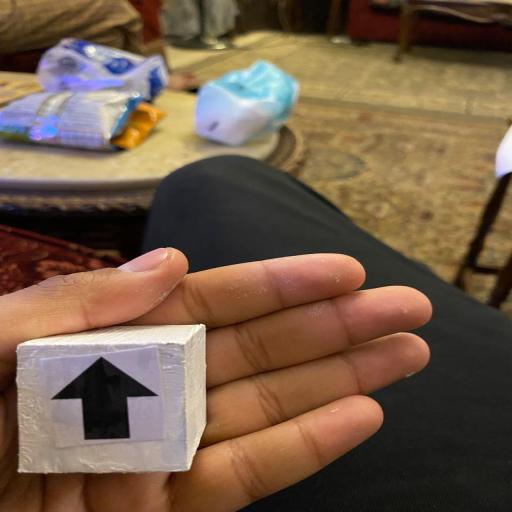Up: (14, 323, 210, 474)
